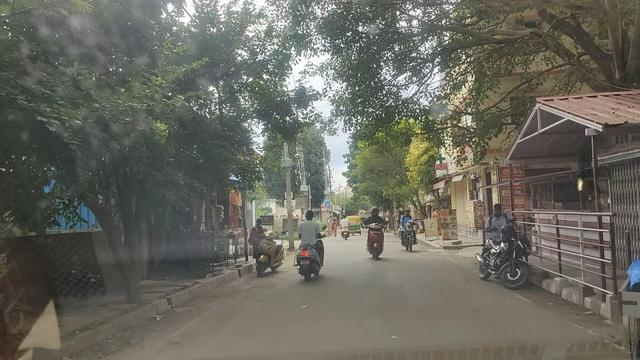LMV: (476, 194, 538, 296), (289, 204, 328, 293), (248, 215, 291, 279)
